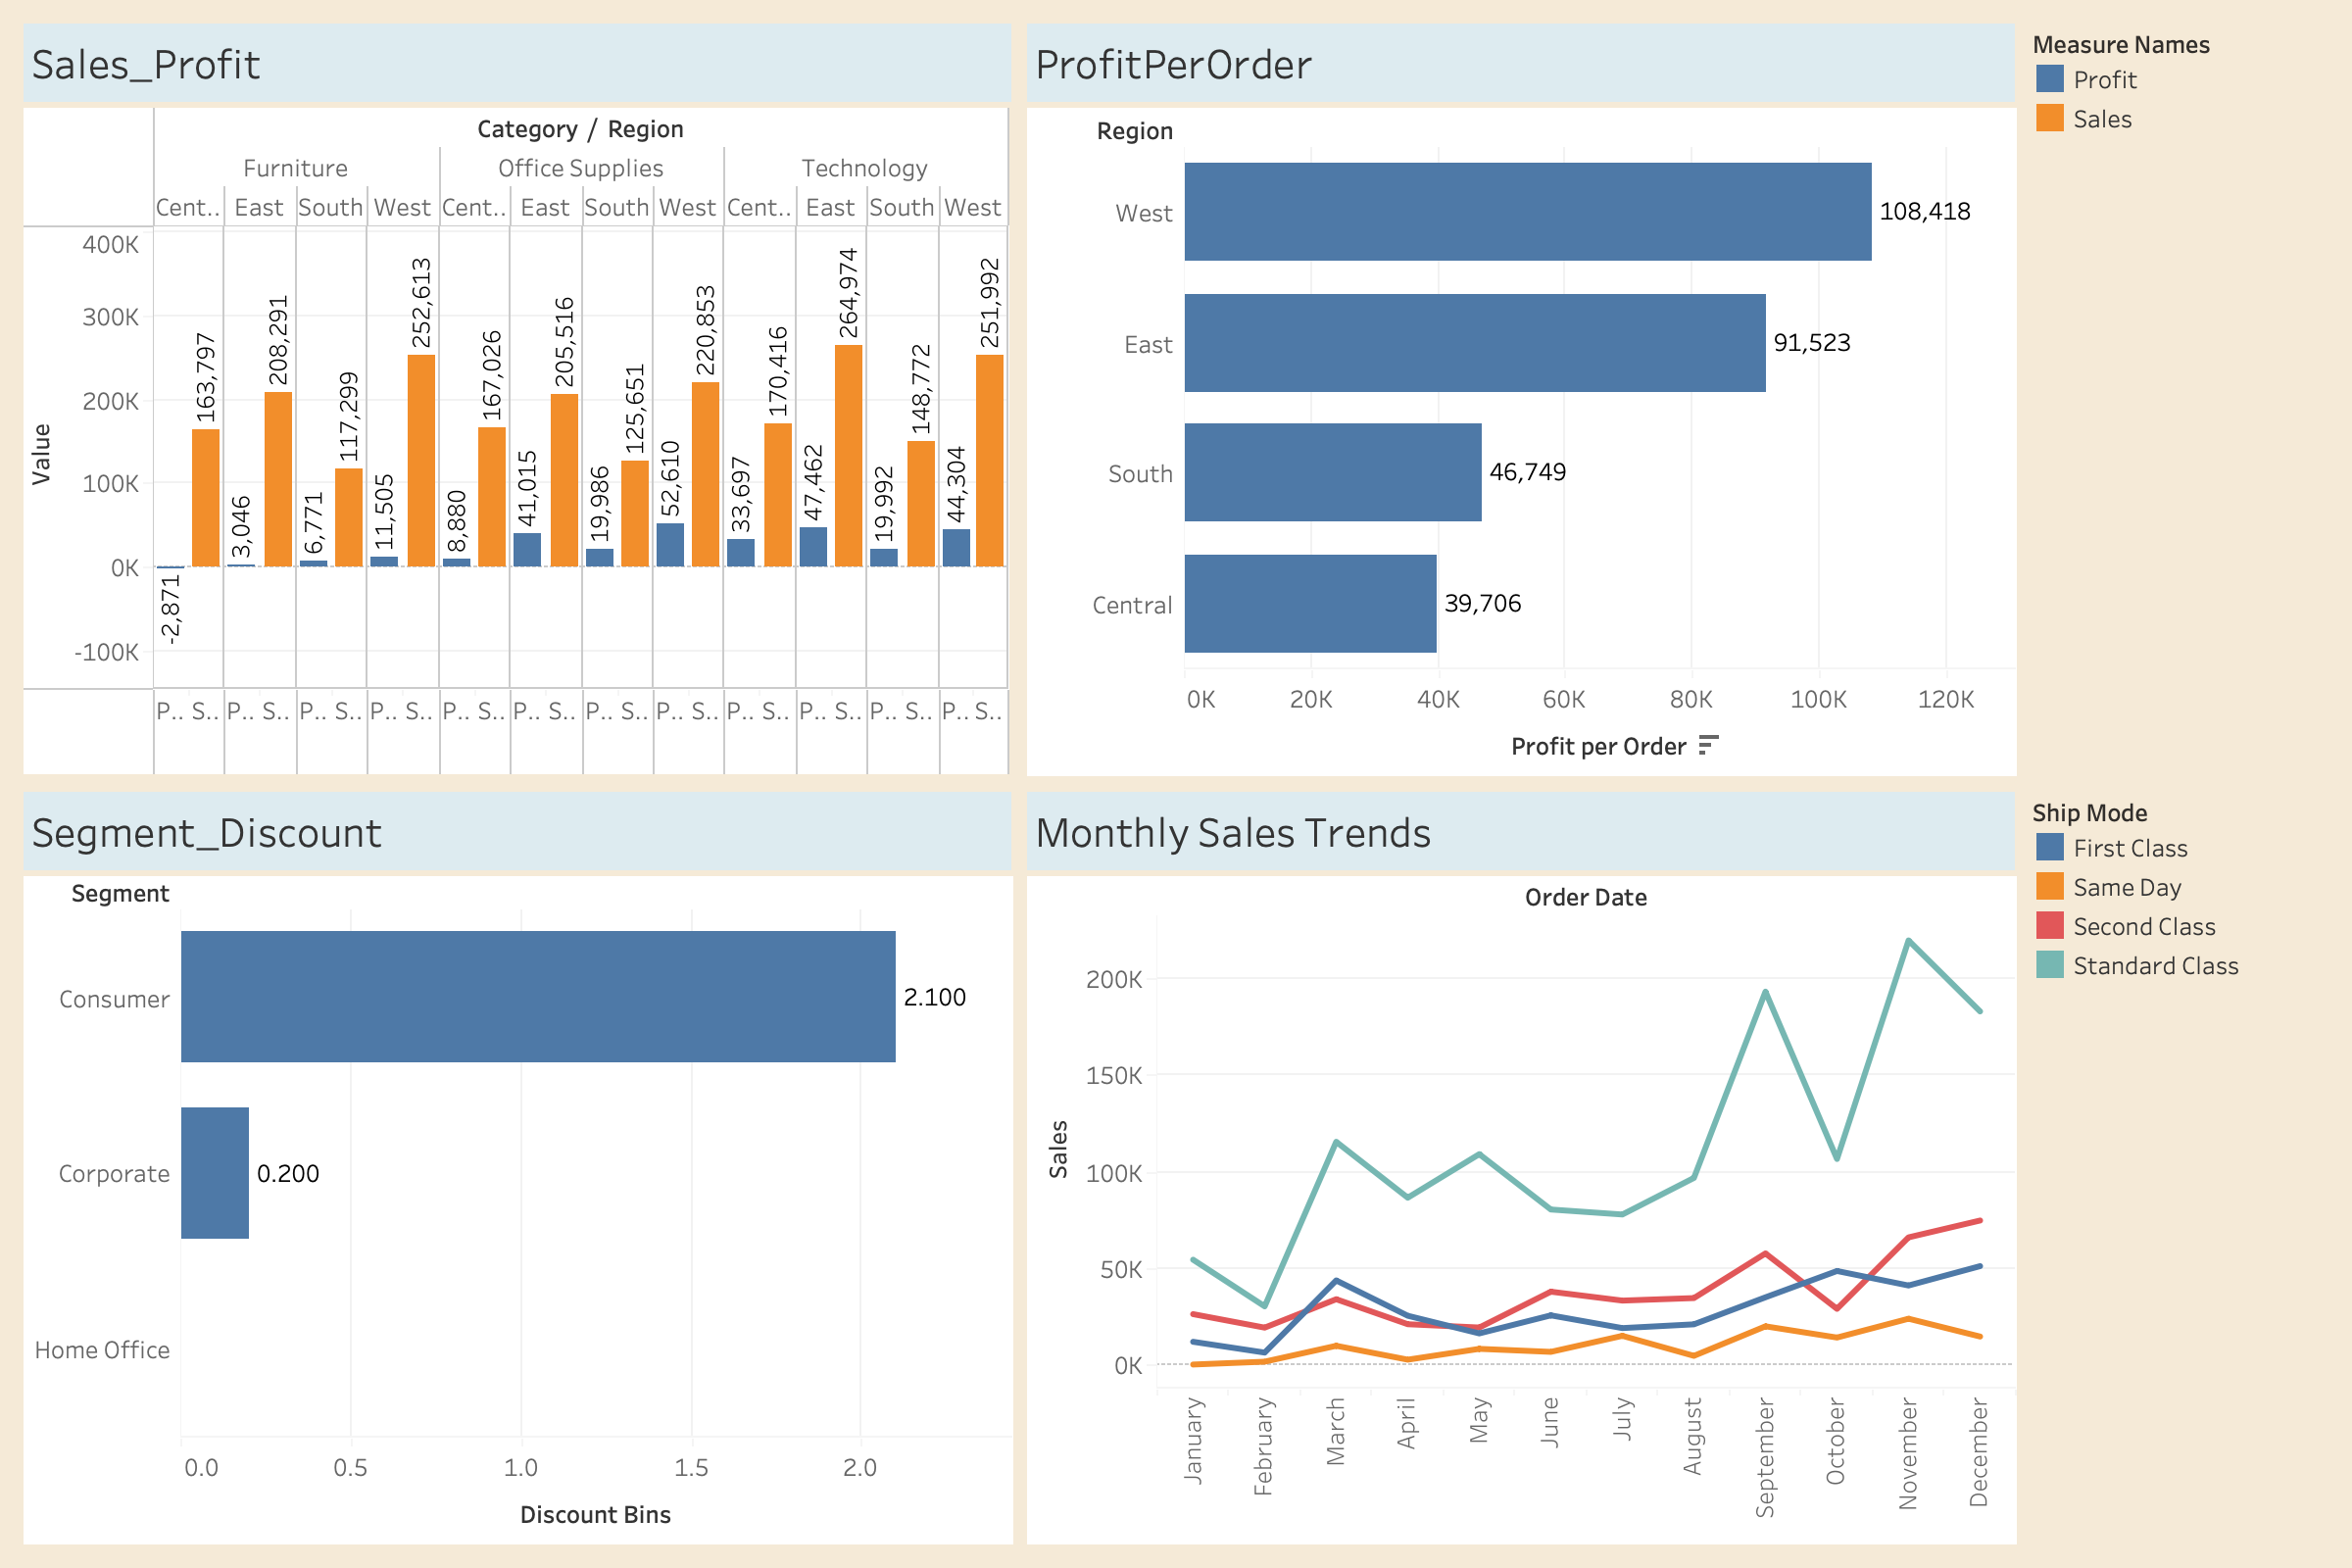

Layout of this report page (visuals, bound fields, positions):
{"tool":"tableau","page":{"name":"Dashboard ","canvas":[1200,800],"ordinal":0},"visuals":[{"type":"worksheet","title":"Sales_Profit","mark":"Automatic","cols":["Category","Region"],"box":[8,8,512,392]},{"type":"worksheet","title":"ProfitPerOrder","mark":"Automatic","rows":["Region"],"cols":["Profit_per_Order"],"box":[520,8,512,392]},{"type":"legend","title":"Sales_Profit","param":"[federated.1ufsgce1atga2i1ar27b406c42im].[:Measure Names]","box":[1032,8,160,392]},{"type":"worksheet","title":"Segment_Discount","mark":"Automatic","rows":["Segment"],"cols":["Discount Bins"],"box":[8,400,512,392]},{"type":"worksheet","title":"Monthly Sales Trends","mark":"Line","rows":["Sales"],"cols":["Order Date"],"box":[520,400,512,392]},{"type":"legend","title":"Monthly Sales Trends","param":"[federated.1ufsgce1atga2i1ar27b406c42im].[none:Ship Mode:nk]","box":[1032,400,160,392]}]}

Visuals, with their boxes in screenshot pixels (x1, y1, x2, y2), scaled from the page's 1200x800 canvas onto the 2352x1568 screenshot:
"Sales_Profit" worksheet: 16, 16, 1019, 784
"ProfitPerOrder" worksheet: 1019, 16, 2023, 784
"Sales_Profit" legend: 2023, 16, 2336, 784
"Segment_Discount" worksheet: 16, 784, 1019, 1552
"Monthly Sales Trends" worksheet (Line marks): 1019, 784, 2023, 1552
"Monthly Sales Trends" legend: 2023, 784, 2336, 1552
